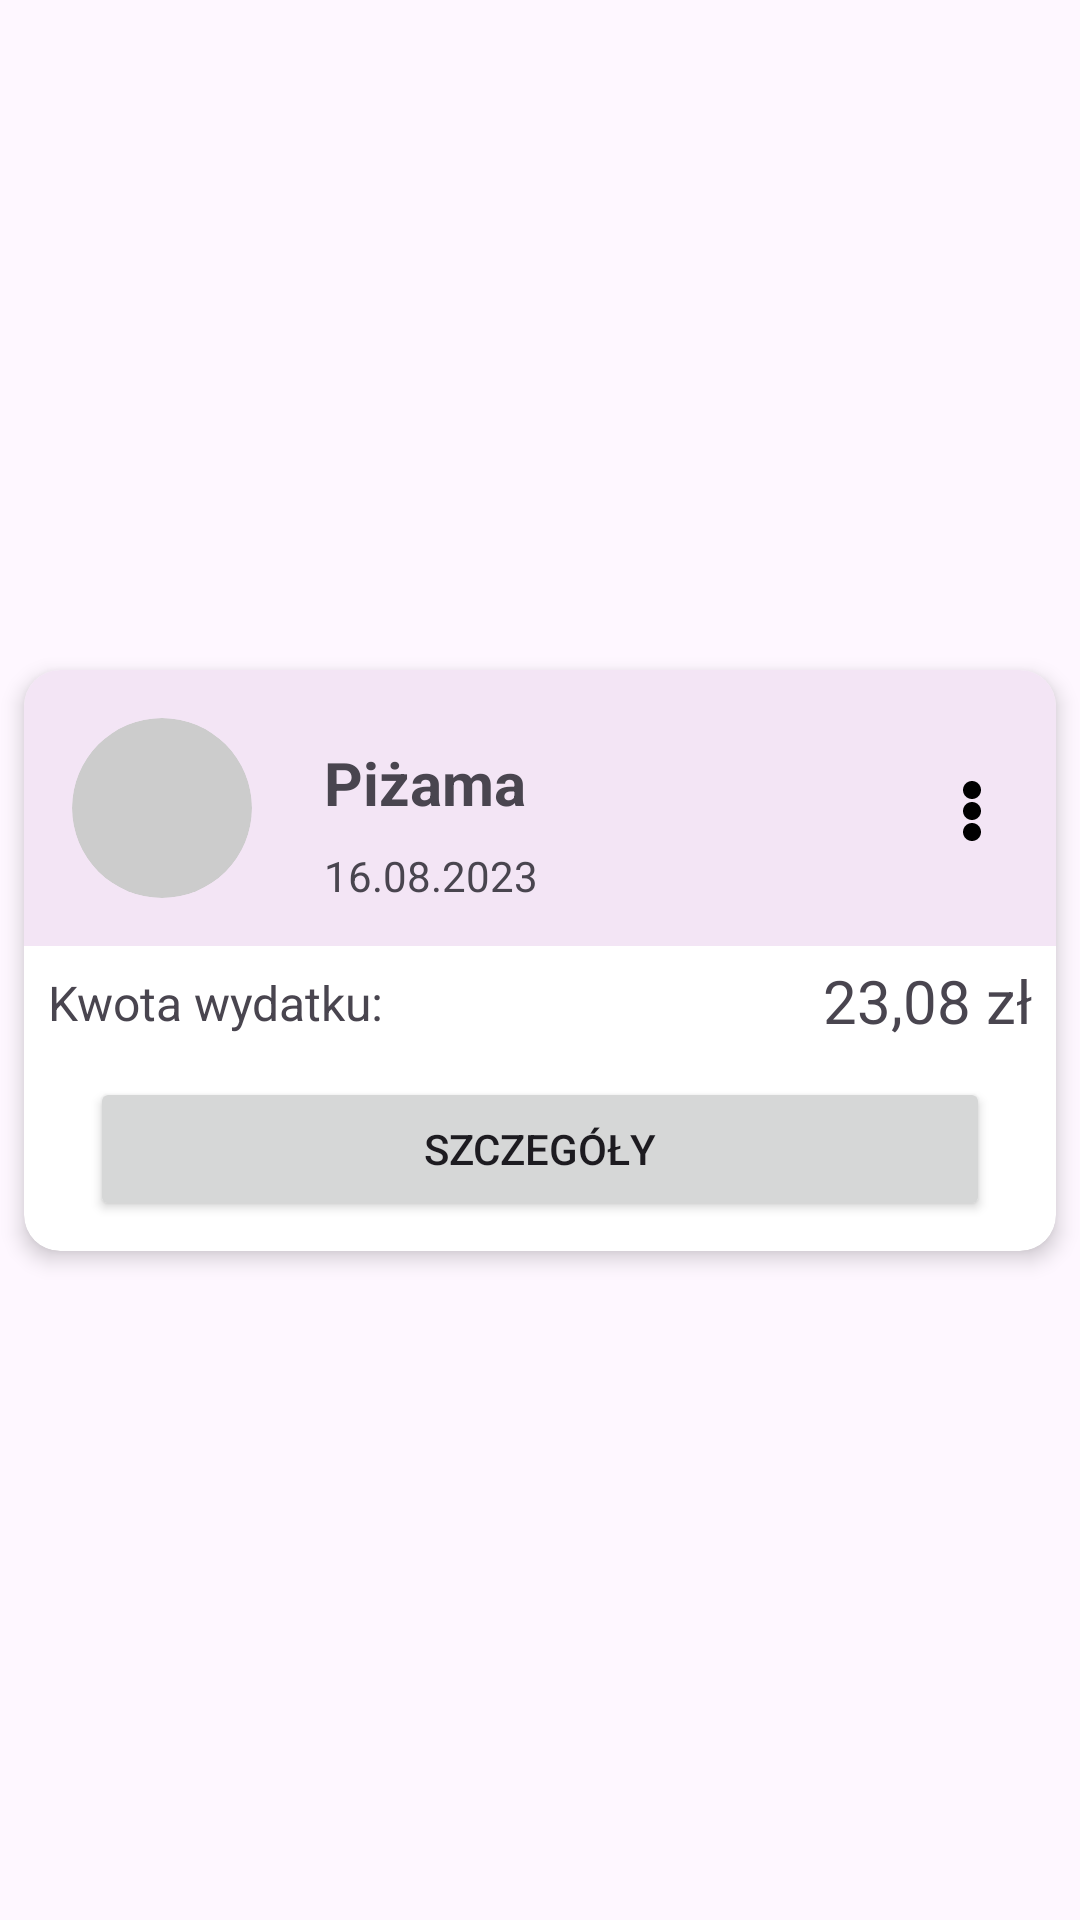

Locate icon controls on the screen. Image size 1080 × 1920, boxes as Rect(x1, y1, x2, y2).
menu: Rect(963, 781, 981, 841)
